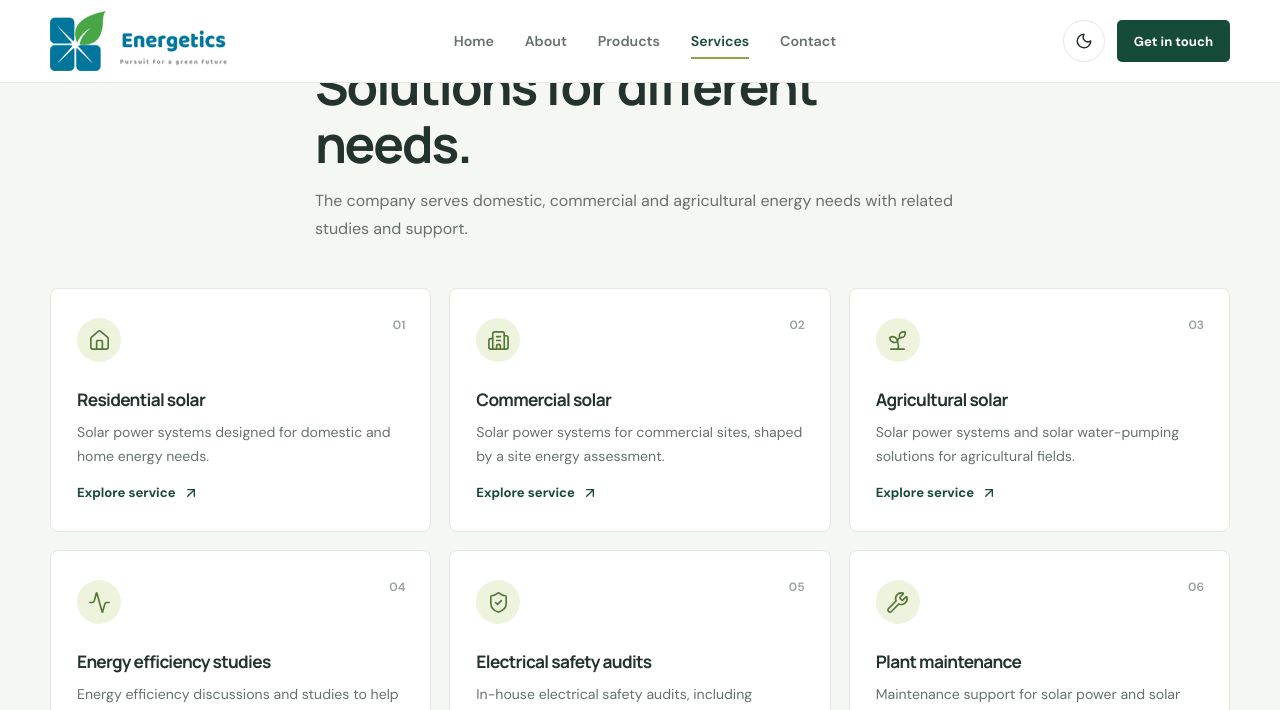
Test case: service details › opens a dedicated detail page from a service card
(page scrolled)
Click the link "Residential solar": (99, 340) [50,288,431,532]
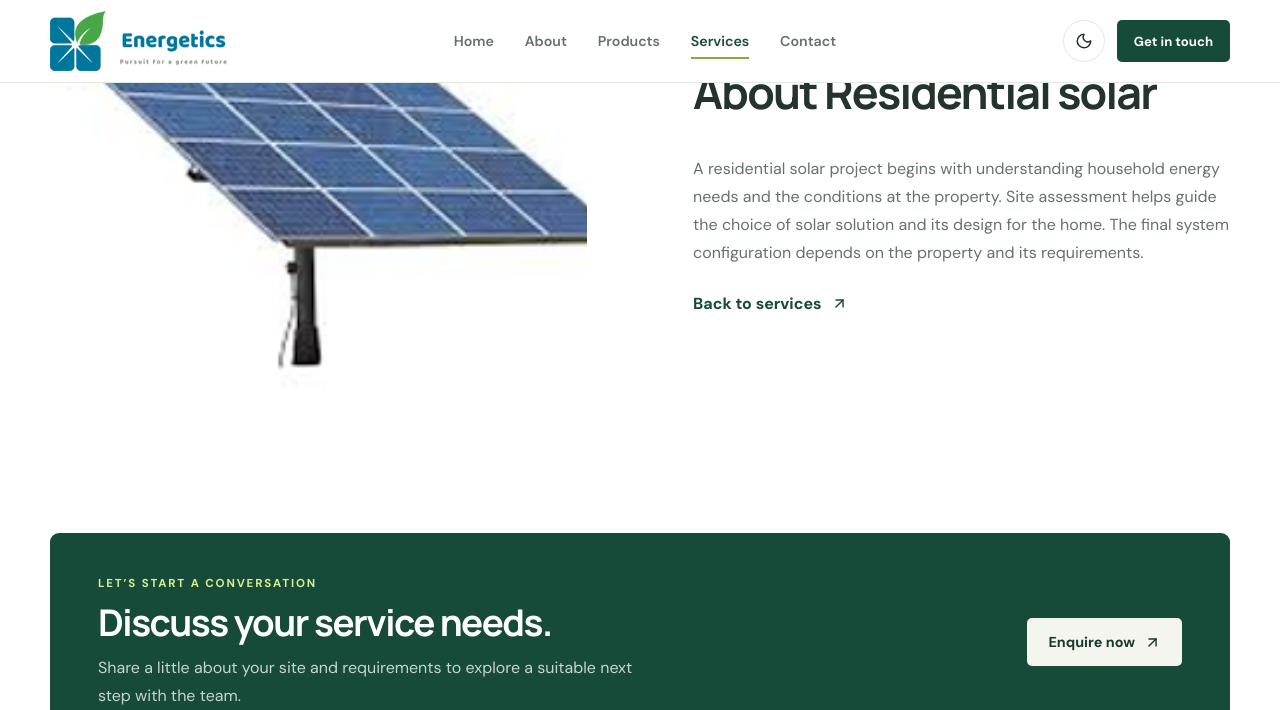
Expected: the heading "About Residential solar" is shown, [693,67,1230,118]
